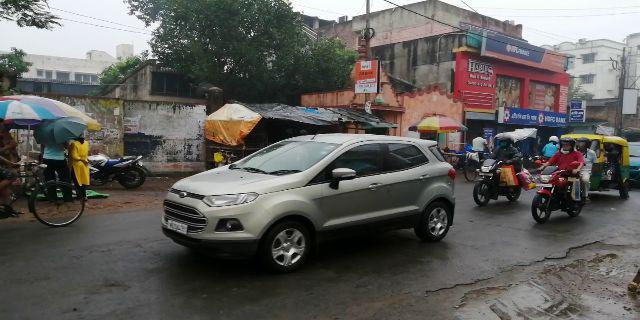Autorickshaw: (564, 133, 632, 200)
Car: (151, 134, 469, 257)
Motorbike: (531, 138, 589, 221), (475, 135, 527, 206)
